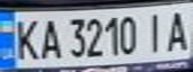0: (118, 12, 142, 56)
1: (103, 14, 121, 56)
2: (84, 15, 106, 57)
3: (63, 15, 87, 60)
A: (160, 7, 193, 54), (36, 15, 63, 61)
I: (139, 9, 169, 54)
K: (9, 15, 42, 62)
